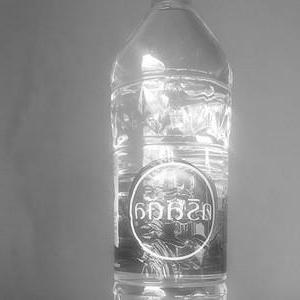bottle: (106, 0, 238, 300)
